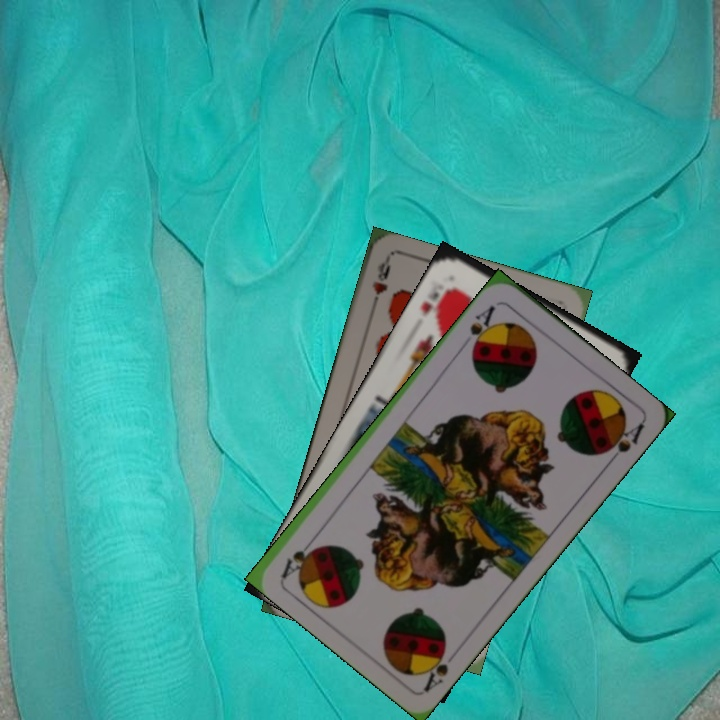H9: (367, 256, 393, 314)
HK: (416, 281, 456, 321)
SA: (416, 638, 451, 694), (465, 301, 498, 355)
